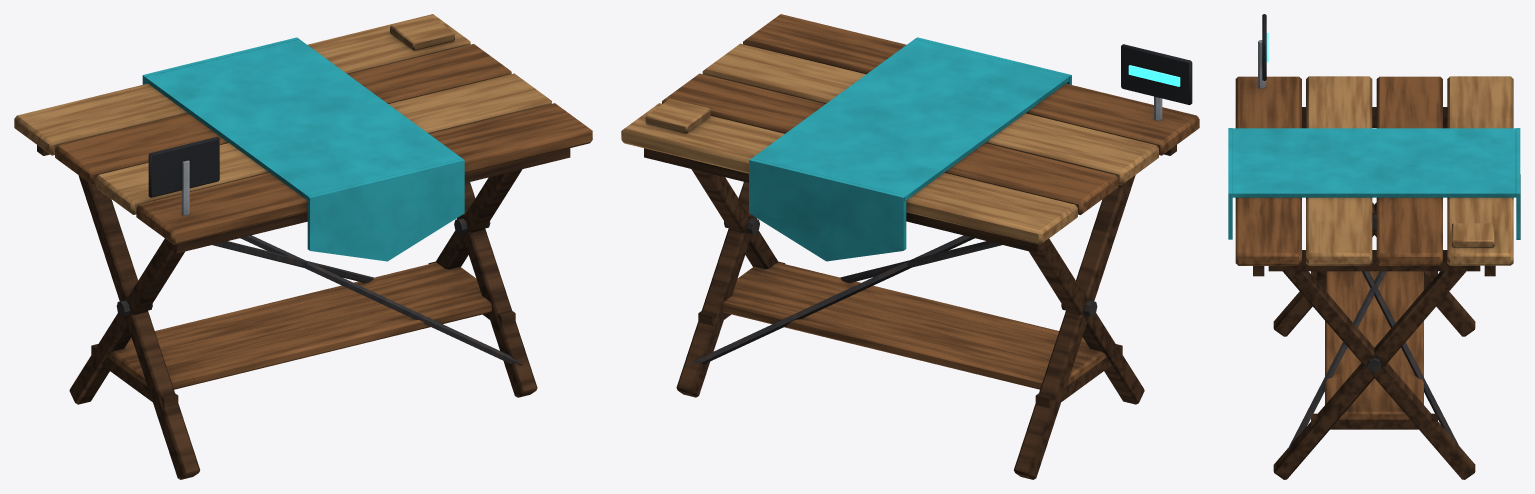
File: mesa_mercado.fbx
The picture shows the model from 3 angles, left to right: view 1: azimuth 30°, elevation 25°; view 2: azimuth 150°, elevation 25°; view 3: azimuth 270°, elevation 25°; orthographic projection. The views are drawn at different scales.
Visible parts, largest first — view 1: mesa_mercado; view 2: mesa_mercado; view 3: mesa_mercado.
Part boxes in pixels (x1,y1,x2,y2): mesa_mercado: (14, 14, 592, 479); mesa_mercado: (621, 14, 1199, 479); mesa_mercado: (1228, 14, 1520, 479).
Bounding box in the file's own units: 3.05 × 2.35 × 2.07.
Materials: 2 (2 with a texture image).
